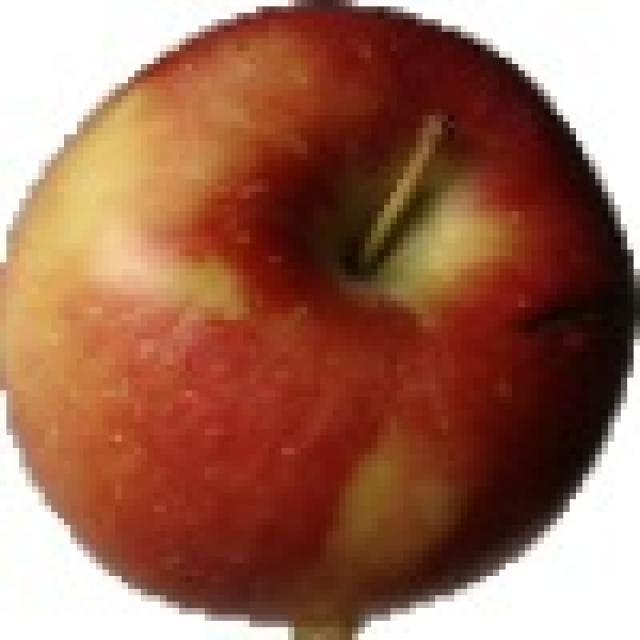apple: (12, 12, 629, 624)
